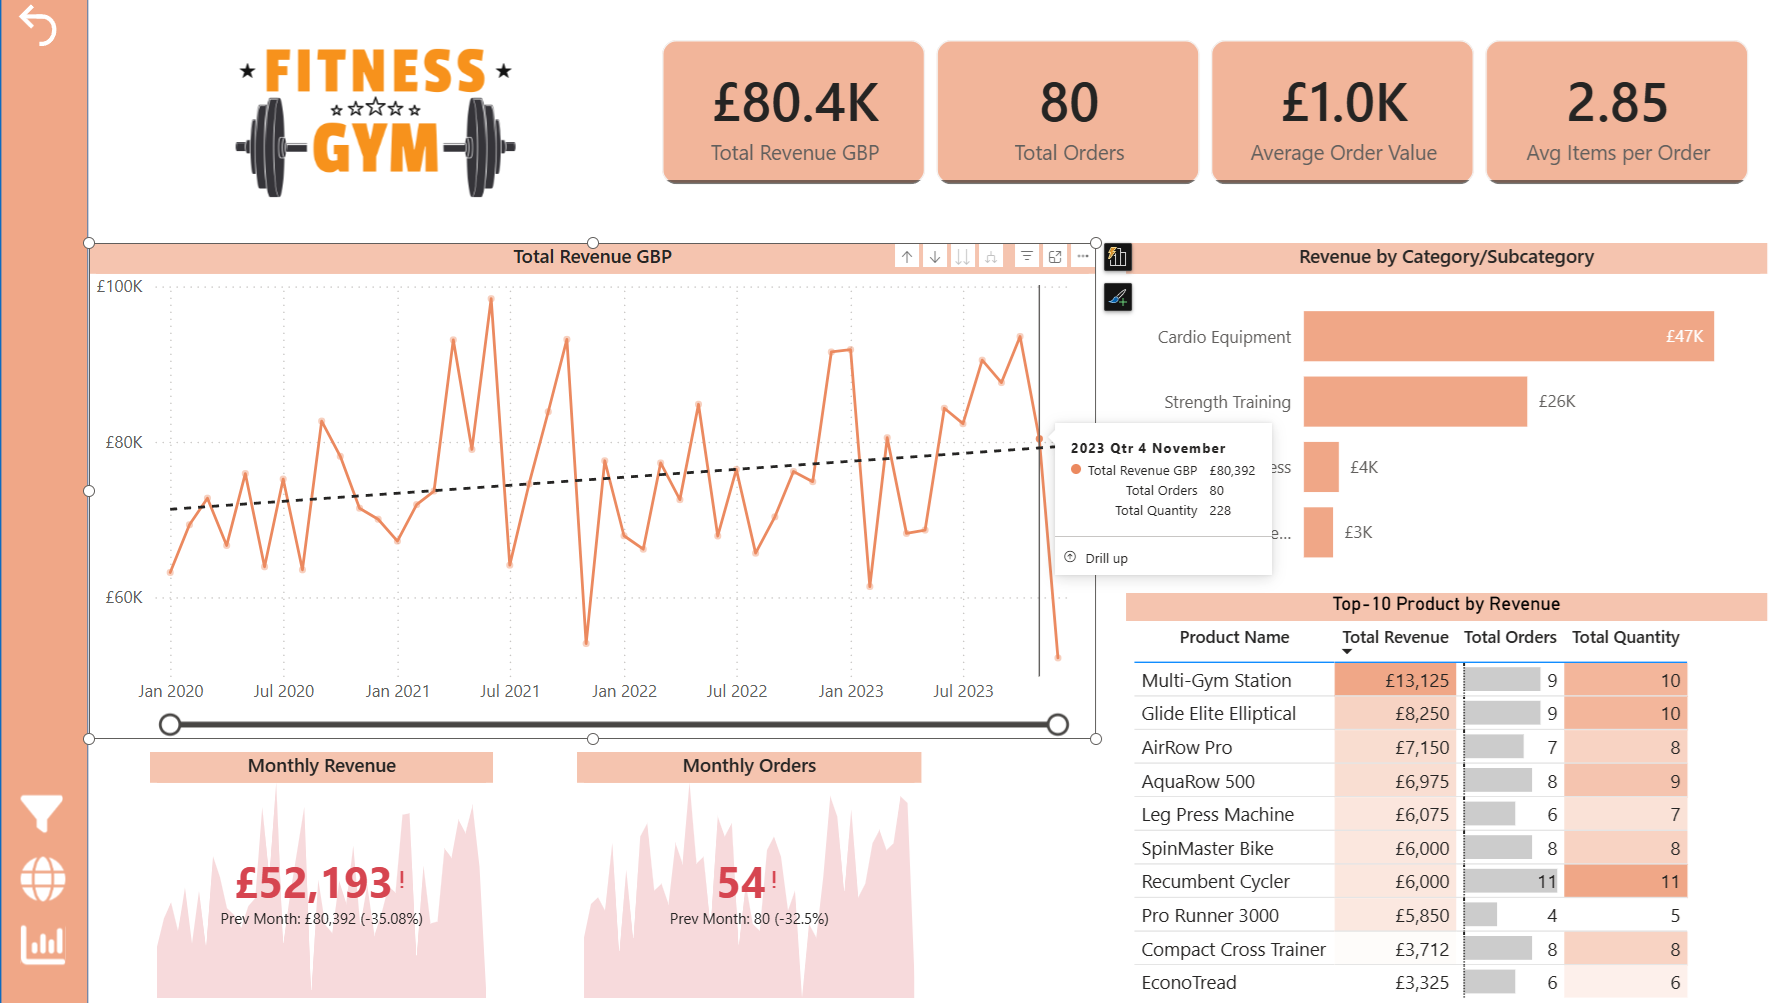

Layout of this report page (visuals, bound fields, positions):
{"tool":"powerbi","page":{"name":"Page 1","canvas":[1280,720],"ordinal":0},"visuals":[{"type":"cardVisual","fields":{"Data":["Table Measures.Total Revenue GBP","Table Measures.Total Orders","Table Measures.Average Order Value","Table Measures.Avg Items per Order"]},"box":[467.7,25.4,789.2,113.1],"z":0},{"type":"lineChart","fields":{"Category":["date.date.Variation.Date Hierarchy.Year","date.date.Variation.Date Hierarchy.Quarter","date.date.Variation.Date Hierarchy.Month"],"Y":["Table Measures.Total Revenue GBP"]},"box":[63.6,175.5,719.1,354.5],"z":1000},{"type":"barChart","title":"Revenue by Category/Subcategory","fields":{"Category":["products.category_name Hierarchy.category_name","products.category_name Hierarchy.subcategory_name","date.date"],"Y":["Table Measures.Total Revenue GBP"]},"box":[804.6,175.6,457.8,249.8],"z":2000},{"type":"kpi","title":"Monthly Revenue","fields":{"Goal":["Table Measures.Previous Month Revenue"],"Indicator":["Table Measures.Total Revenue GBP"],"TrendLine":["date.Start of Month"]},"box":[107.3,539.3,245.4,180.8],"z":3000},{"type":"kpi","title":"Monthly Orders","fields":{"Goal":["Table Measures.Previous Month Orders"],"Indicator":["Table Measures.Total Orders"],"TrendLine":["date.Start of Month"]},"box":[412.2,539.3,246.2,180.8],"z":4000},{"type":"tableEx","title":"Top-10 Product by Revenue","fields":{"Values":["products.product_name","Table Measures.Total Revenue GBP","Table Measures.Total Orders","Table Measures.Total Quantity"]},"box":[804.6,425.4,457.8,294.6],"z":5000},{"type":"image","box":[94.6,0,347.7,175.4],"z":6000},{"type":"shape","box":[0,0,63.5,720.1],"z":7000},{"type":"actionButton","box":[7.3,0,100,40],"z":8000},{"type":"actionButton","title":"Open sel","box":[10.8,564.6,40.8,38.5],"z":9000},{"type":"actionButton","box":[10.8,610,40.8,40],"z":11000},{"type":"actionButton","box":[10.8,656.9,40.8,40],"z":12000}]}

Visuals, with their boxes on the page's 1280x720 design canvas (x1, y1, x2, y2). These are canvas units, not pixel positions in the 1791x1003 screenshot, which may show the page scaled, cropped or inside an application window:
cardVisual - Table Measures.Total Revenue GBP x Table Measures.Total Orders: bbox=[468, 25, 1257, 138]
lineChart - date.date.Variation.Date Hierarchy.Year x date.date.Variation.Date Hierarchy.Quarter: bbox=[64, 176, 783, 530]
"Revenue by Category/Subcategory" barChart: bbox=[805, 176, 1262, 425]
"Monthly Revenue" kpi: bbox=[107, 539, 353, 720]
"Monthly Orders" kpi: bbox=[412, 539, 658, 720]
"Top-10 Product by Revenue" tableEx: bbox=[805, 425, 1262, 720]
image: bbox=[95, 0, 442, 175]
shape: bbox=[0, 0, 64, 720]
actionButton: bbox=[7, 0, 107, 40]
"Open sel" actionButton: bbox=[11, 565, 52, 603]
actionButton: bbox=[11, 610, 52, 650]
actionButton: bbox=[11, 657, 52, 697]
